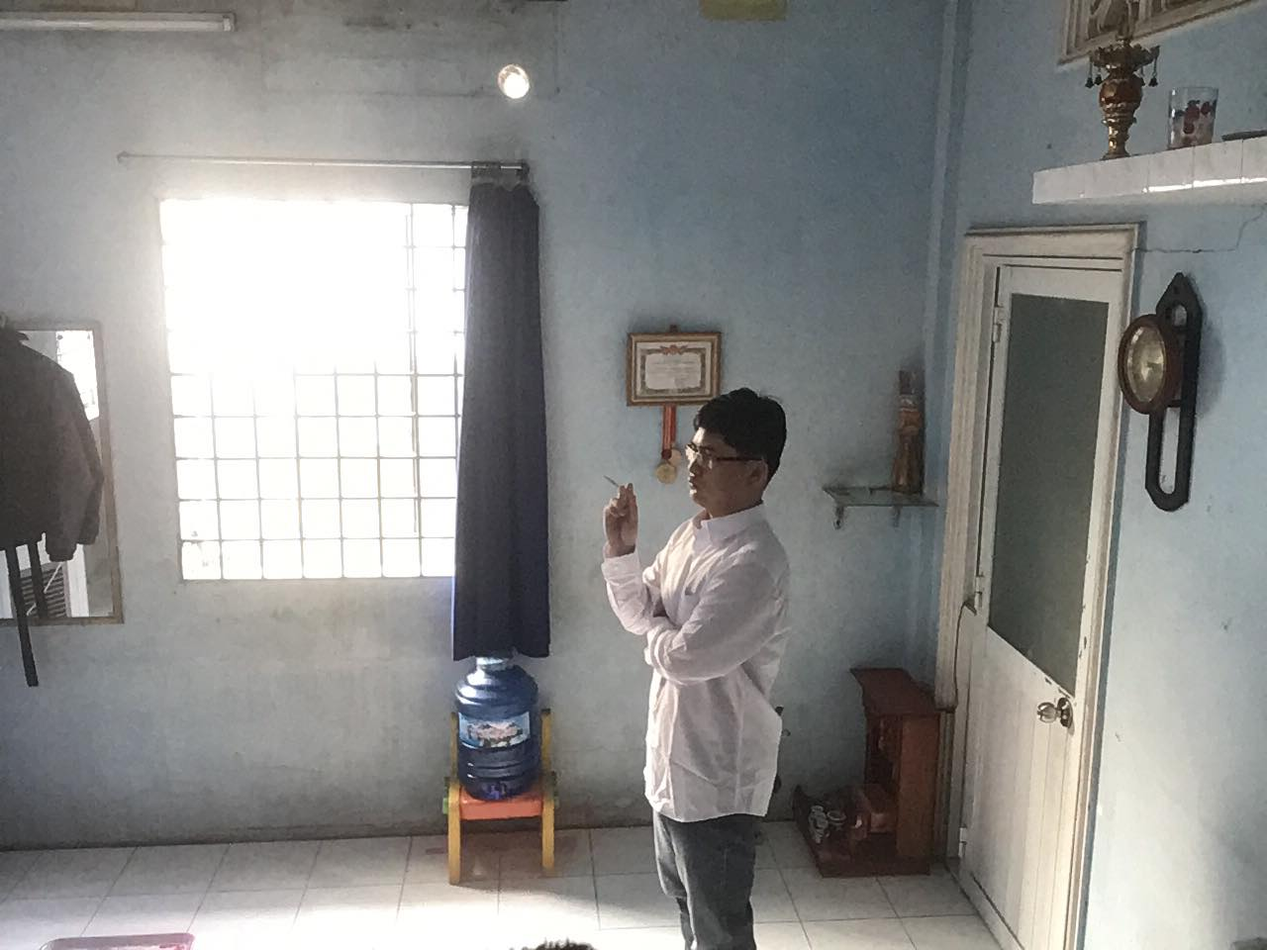cigarette: (607, 474, 637, 498)
person: (567, 368, 813, 950)
